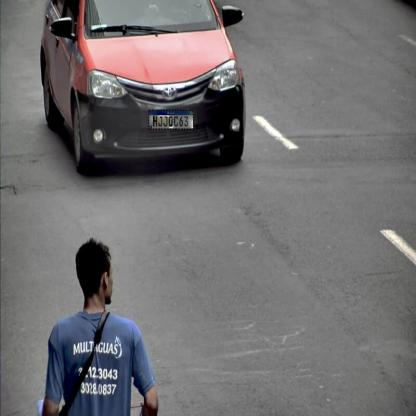PlacaM: (148, 109, 194, 130)
